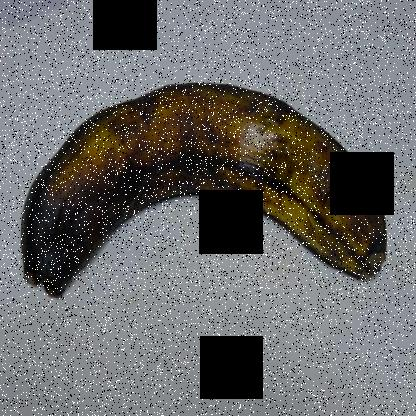overripe: (4, 55, 408, 319)
